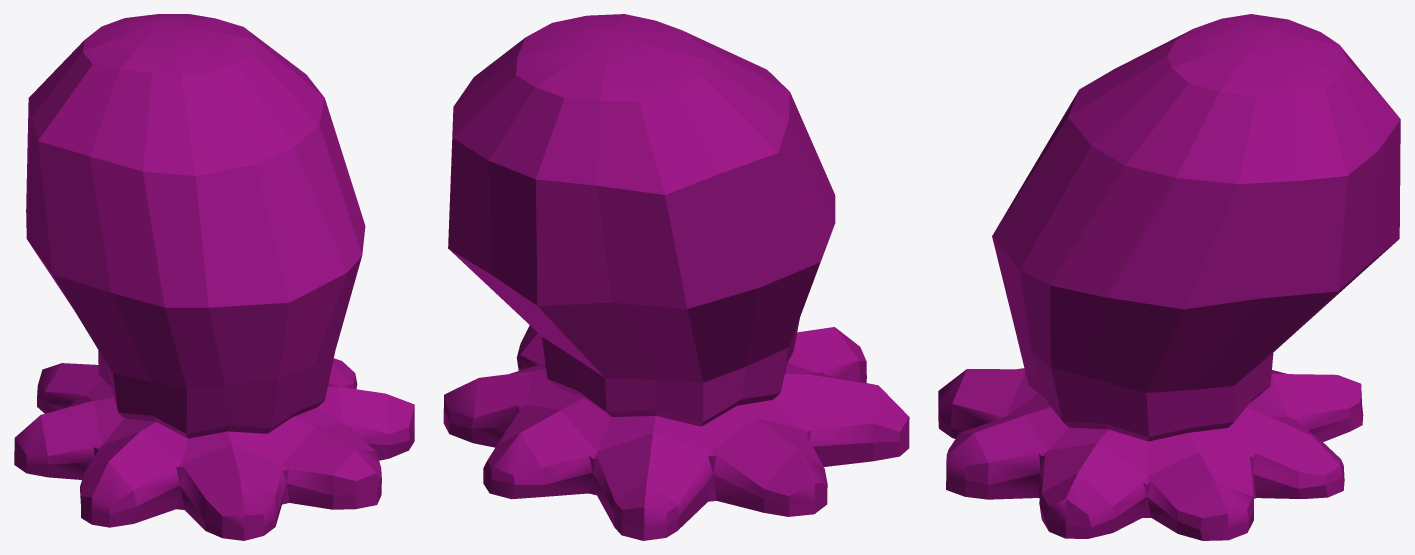
File: SM_octopus_toy.FBX
3 views of the same model, side by side, from view 1: azimuth 30°, elevation 25°; view 2: azimuth 150°, elevation 25°; view 3: azimuth 270°, elevation 25° (orthographic). The views are drawn at different scales.
Visible parts, largest first — view 1: octogon; view 2: octogon; view 3: octogon.
Boxes of the visible parts, left/top/right/bottom form: octogon: left=14, top=14, right=414, bottom=540; octogon: left=443, top=14, right=909, bottom=540; octogon: left=938, top=14, right=1400, bottom=540.
Size of the model in its own units: 186 by 208 by 207.
